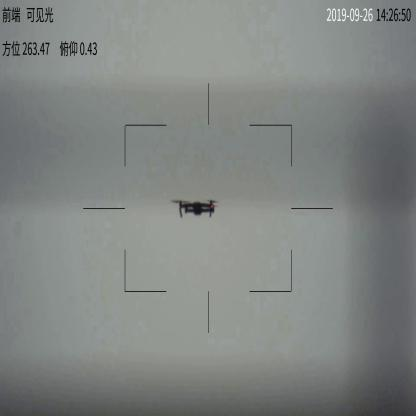uav: (170, 196, 219, 221)
